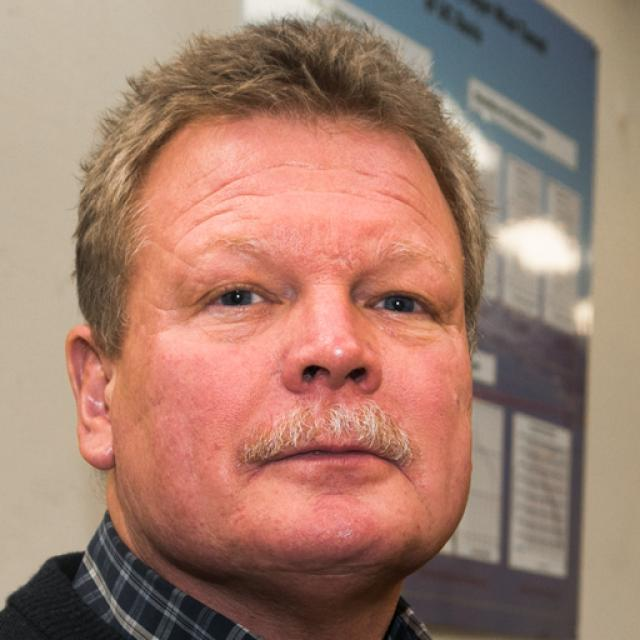Acne: (210, 440, 228, 454), (449, 390, 464, 405), (329, 246, 345, 260)
Wrinkle: (178, 161, 327, 213), (373, 189, 446, 233), (172, 205, 235, 246), (390, 169, 433, 206), (279, 185, 366, 201), (218, 188, 276, 205), (355, 165, 387, 180)
